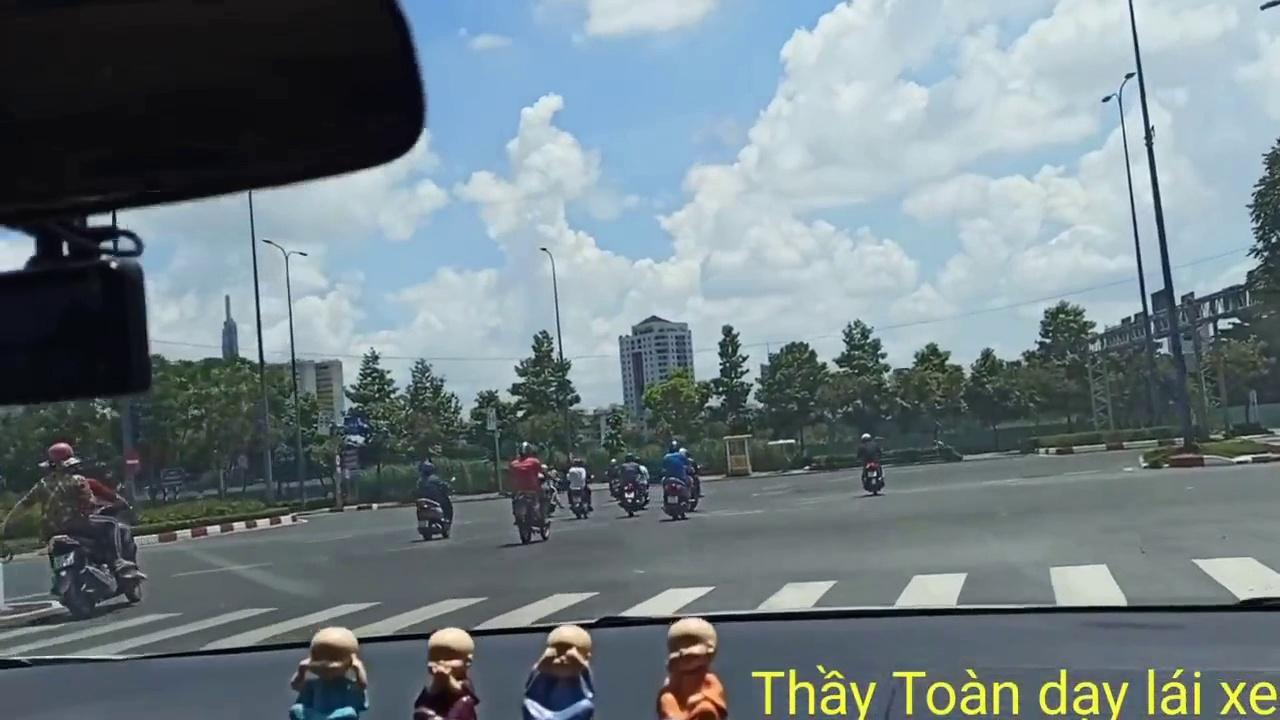Cấm đi ngược chiều: (122, 448, 144, 476)
